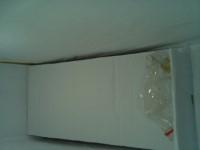bottle: (0, 51, 40, 141)
